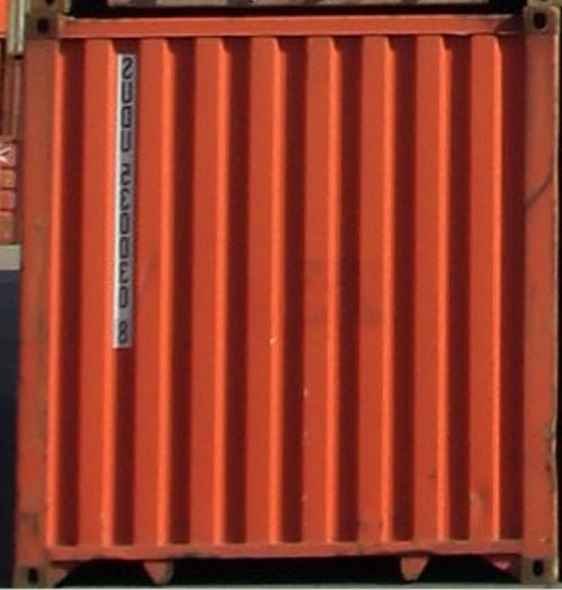container_no_door: (27, 11, 553, 585)
